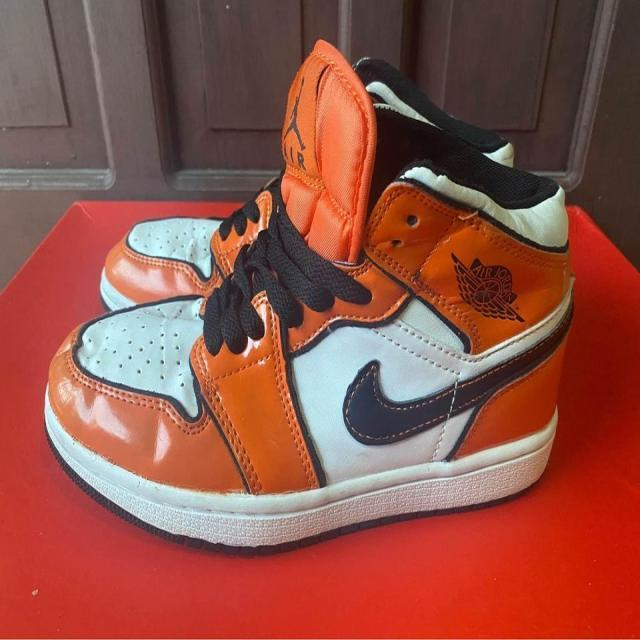nike fake jordan 1: (39, 34, 576, 556), (97, 61, 516, 310)
